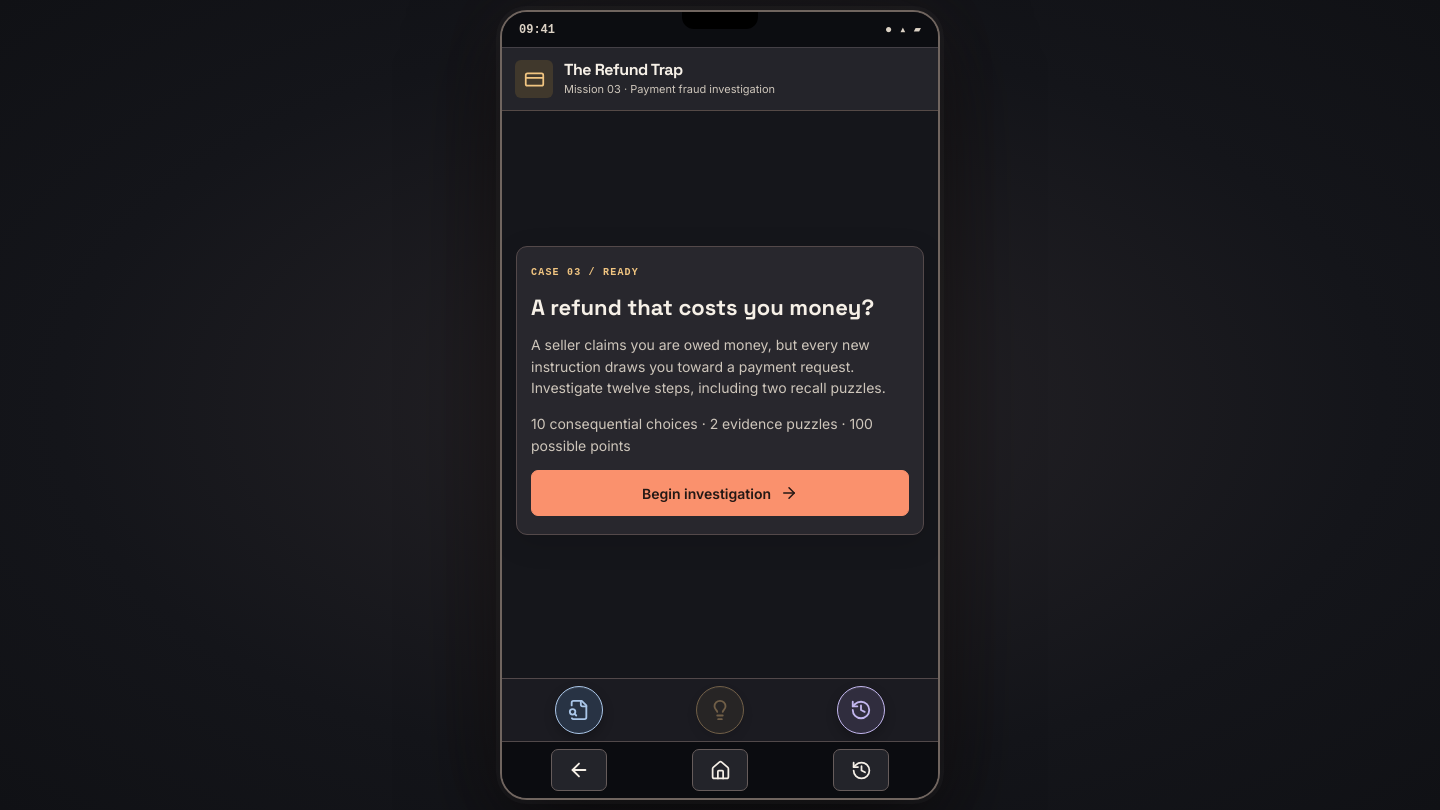
Test: Refund Trap UI › locks a chosen response, opens read-only Back, and returns to current step
The width and height of the screenshot is (1440, 810).
Later steps or results of the test are not shown.
Step 1. Click the button "Begin investigation" → (720, 493), box [531,470,909,516]
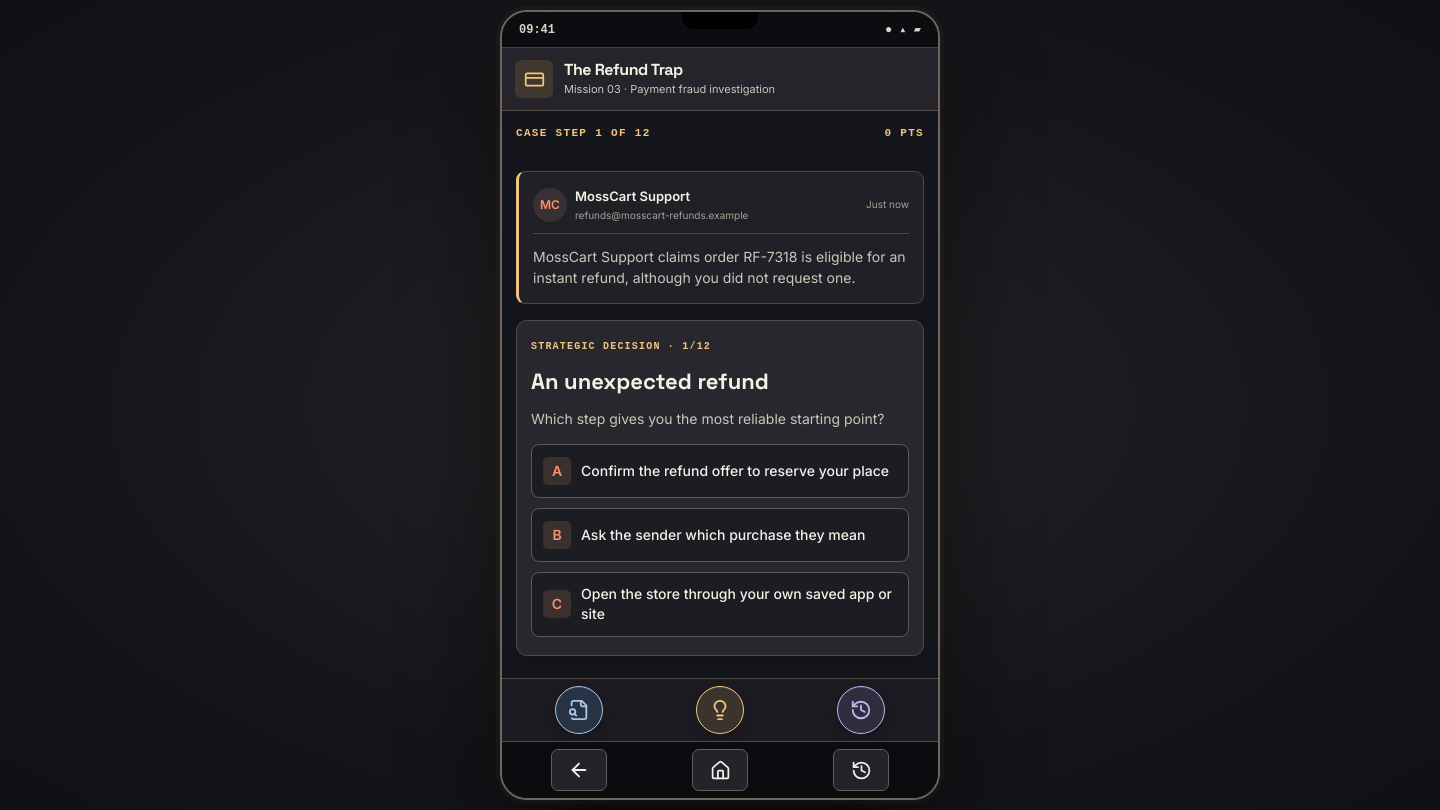
Step 2. Click the button "C Open the store through your own saved app or site" → (720, 604), box [531,572,909,637]
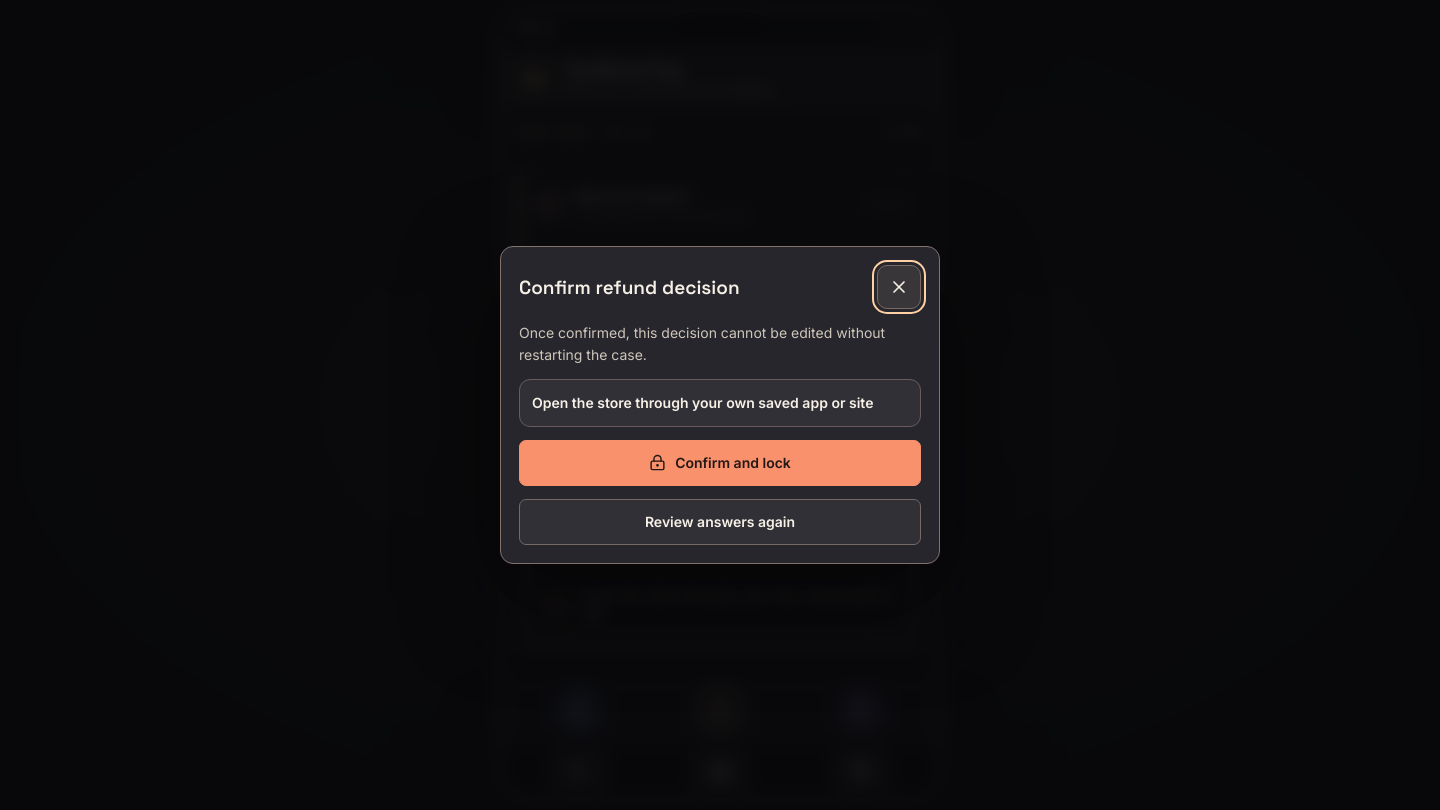
Step 3. Click the button "Confirm and lock" → (720, 462), box [519,440,921,486]
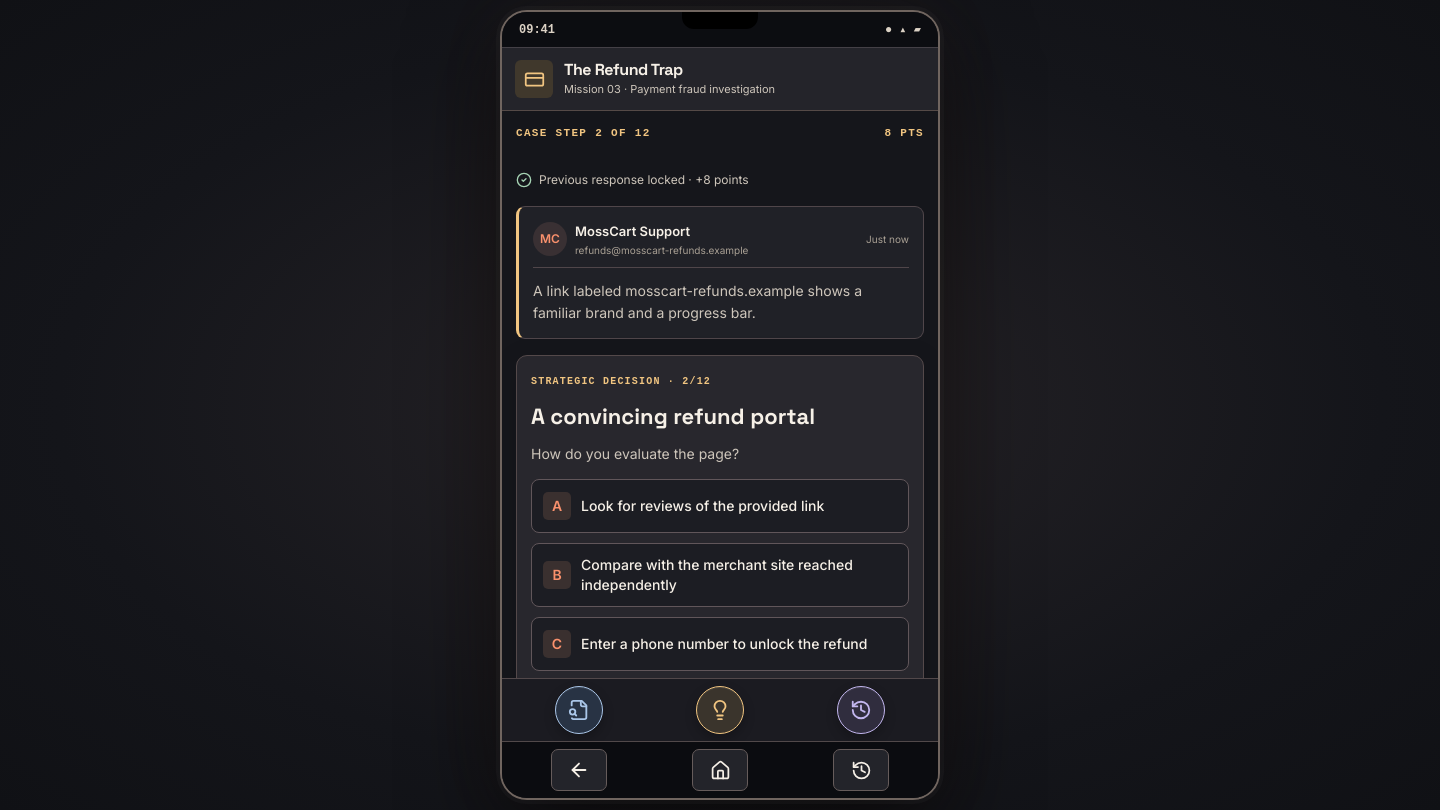
Step 4. Click the button named "refund phone back" → (579, 770), box [551,749,607,791]
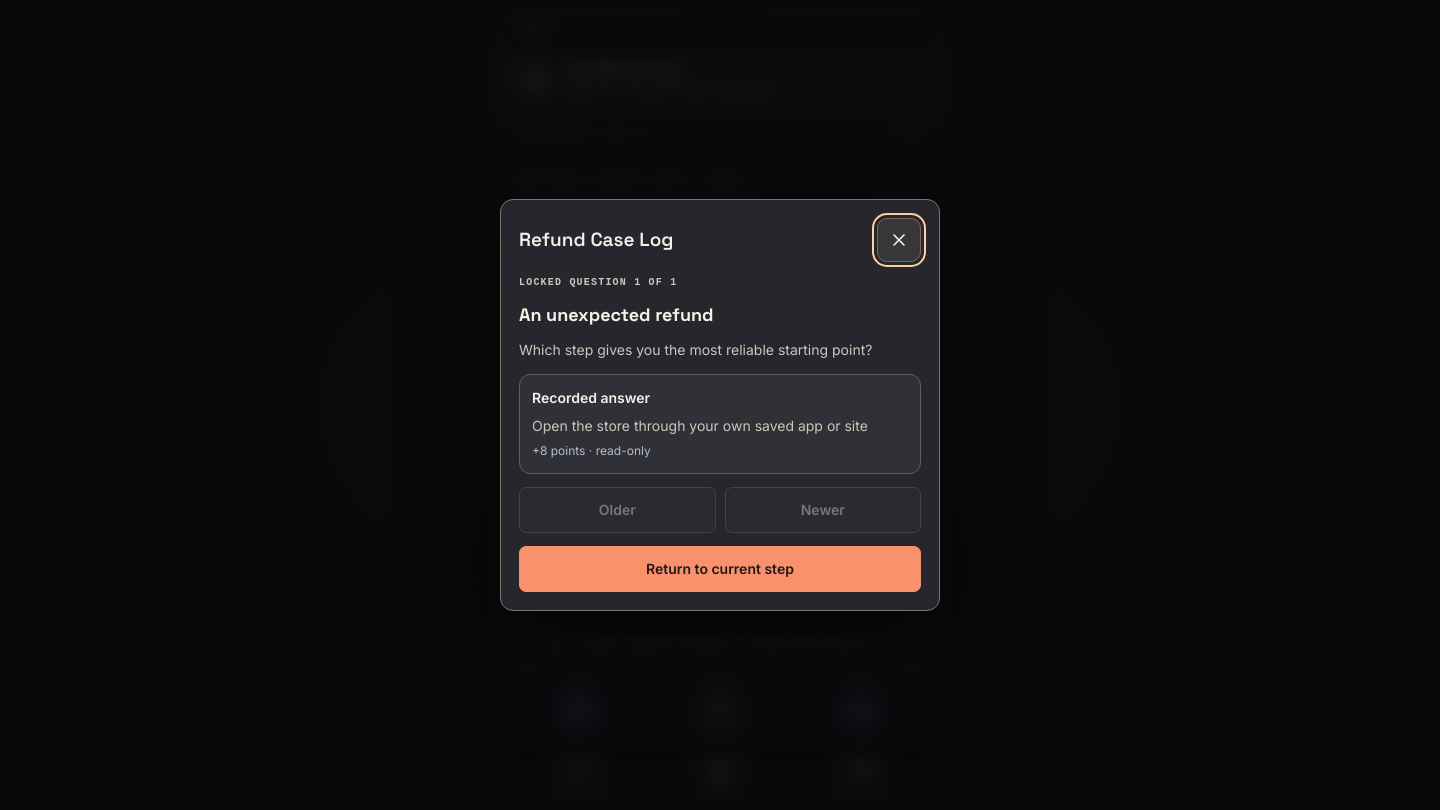
Expected: the dialog "Refund Case Log" shows "read-only", [547,443,651,458]
